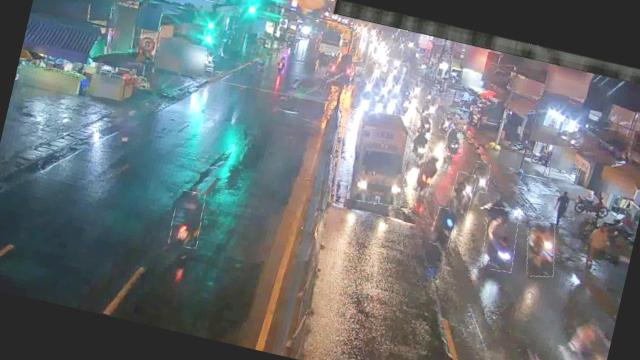Bike: (477, 206, 523, 274), (520, 218, 562, 280), (167, 188, 207, 250), (447, 172, 477, 219), (414, 152, 442, 197), (429, 206, 458, 248), (408, 127, 431, 162), (470, 160, 492, 194), (444, 127, 466, 158), (436, 112, 454, 138), (417, 112, 434, 134), (274, 54, 288, 75)
Truck: (341, 108, 418, 210)
